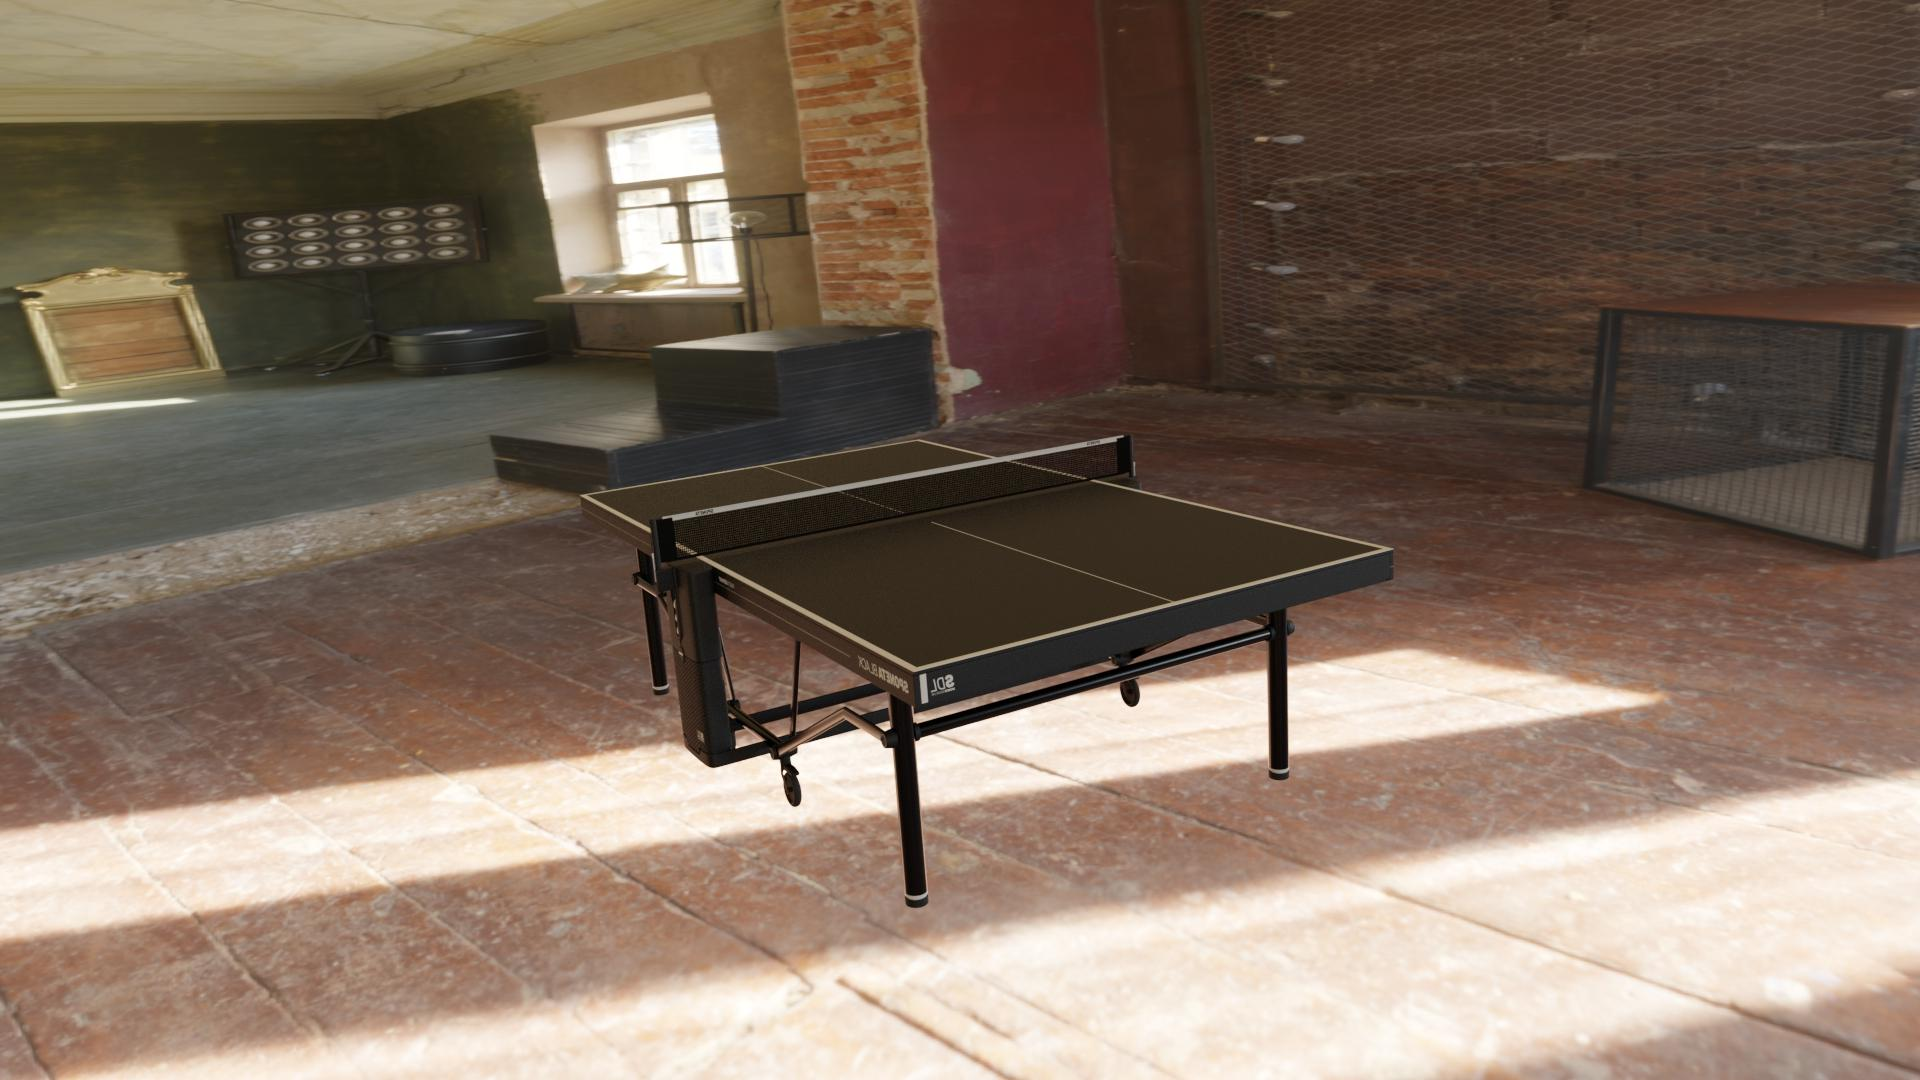table: (587, 440, 1383, 667)
